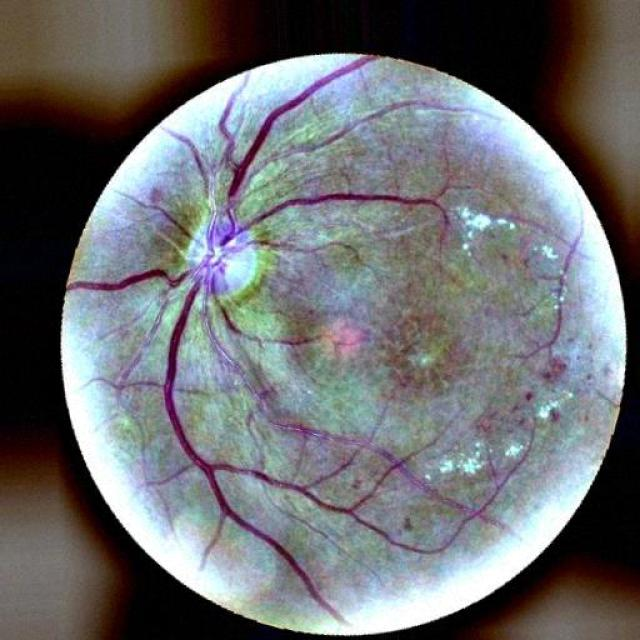Macula: (313, 310, 368, 378)
Nerves: (161, 299, 325, 597), (222, 87, 314, 198), (262, 190, 389, 226), (85, 268, 175, 299)
Optic Disk: (177, 204, 266, 298)
